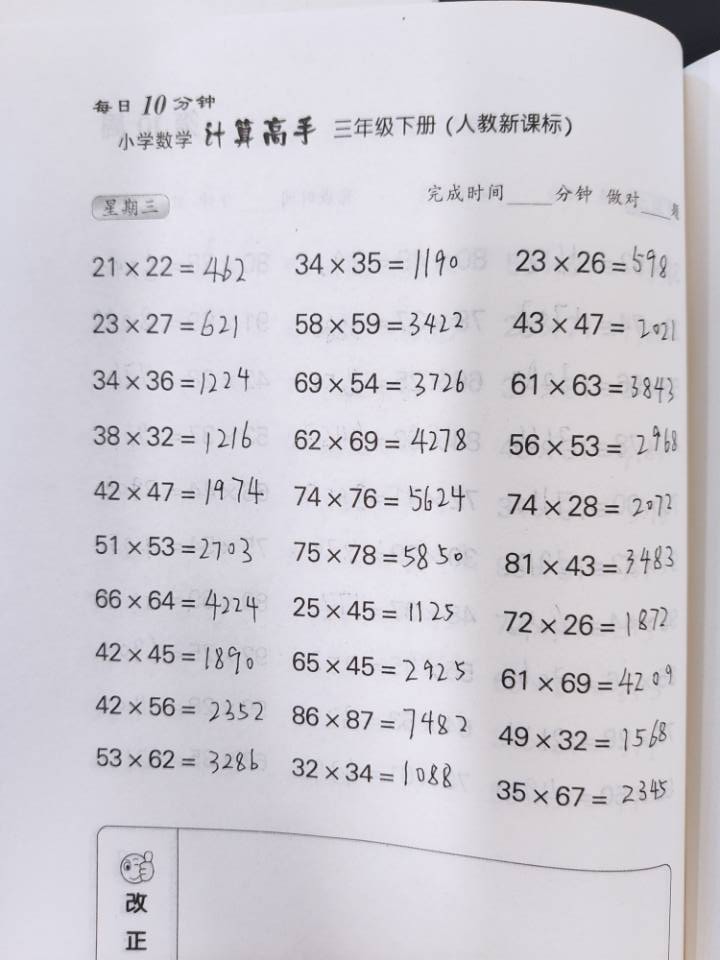equation: (519, 59, 578, 311), (544, 589, 601, 843), (551, 335, 606, 593), (571, 51, 620, 331), (393, 319, 443, 593), (302, 323, 354, 584), (479, 51, 532, 304), (350, 48, 403, 296), (438, 59, 488, 308), (398, 47, 444, 308), (349, 317, 395, 577), (436, 313, 480, 581), (225, 33, 268, 303), (219, 623, 268, 855), (217, 331, 262, 583), (174, 52, 222, 288), (179, 615, 226, 855), (347, 587, 389, 853), (510, 589, 551, 855), (265, 323, 306, 587), (308, 47, 352, 293), (517, 320, 557, 584), (178, 347, 223, 580), (269, 45, 312, 287), (386, 609, 426, 868), (263, 619, 308, 848), (432, 599, 470, 851), (309, 601, 346, 856), (481, 307, 515, 584), (475, 593, 509, 849)
